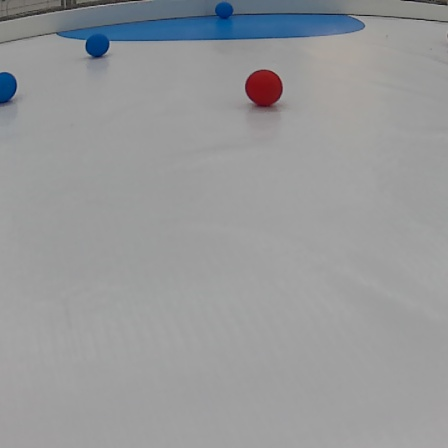blue: (83, 30, 107, 64), (0, 71, 20, 110), (209, 3, 239, 25)
blue_base: (57, 6, 371, 42)
red: (244, 68, 283, 107)
